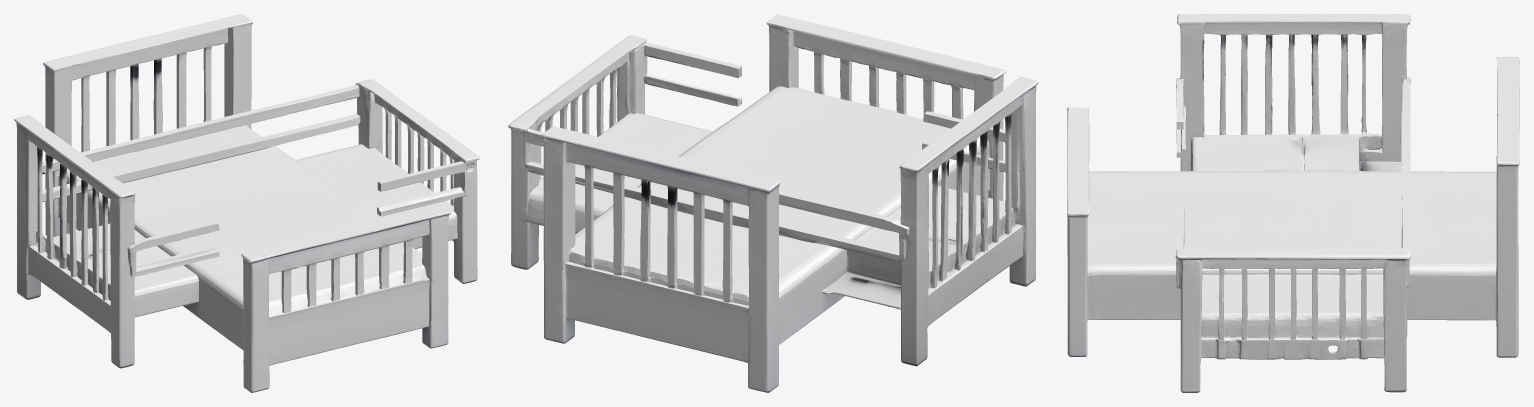
The model's file is Artist Bed Single.glb.
3 views of the same model, side by side, from view 1: azimuth 30°, elevation 25°; view 2: azimuth 150°, elevation 25°; view 3: azimuth 270°, elevation 25° (orthographic). The views are drawn at different scales.
Parts seen in each view (by area): view 1: world; view 2: world; view 3: world.
Part boxes in pixels (<box>): world: <box>14,14,479,392</box>; world: <box>508,14,1038,392</box>; world: <box>1067,14,1519,392</box>.
Bounding box in the file's own units: 1 × 0.4803 × 1.
1 material, 1 textured.
